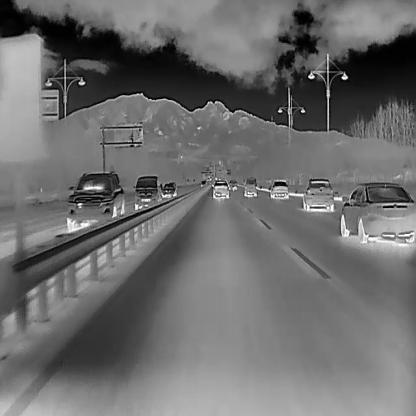car: (340, 182, 416, 243), (65, 170, 124, 231), (302, 178, 334, 212), (132, 175, 161, 210), (268, 179, 289, 199), (211, 180, 229, 199), (243, 176, 257, 197), (162, 183, 175, 197), (229, 179, 237, 190), (199, 178, 207, 187)
